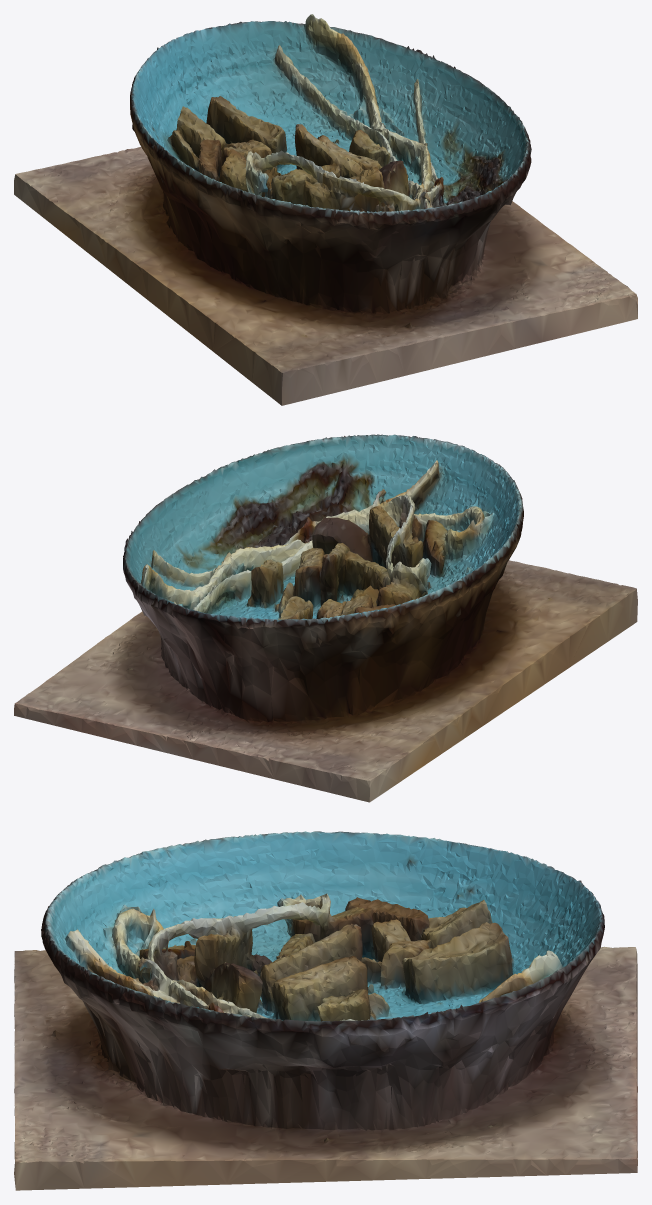
Rendered from tst.glb.
3 renders of one model, top to bottom at view 1: azimuth 30°, elevation 25°; view 2: azimuth 150°, elevation 25°; view 3: azimuth 270°, elevation 25°, orthographic. The views are drawn at different scales.
Visible parts, largest first — view 1: Mesh_0_Part_0; view 2: Mesh_0_Part_0; view 3: Mesh_0_Part_0.
Boxes of the visible parts, x1,y1,x2,y2 form: Mesh_0_Part_0: (14,14,637,405); Mesh_0_Part_0: (14,434,637,802); Mesh_0_Part_0: (14,831,637,1190).
Size of the model in its own units: 0.33 by 0.1415 by 0.4299.
